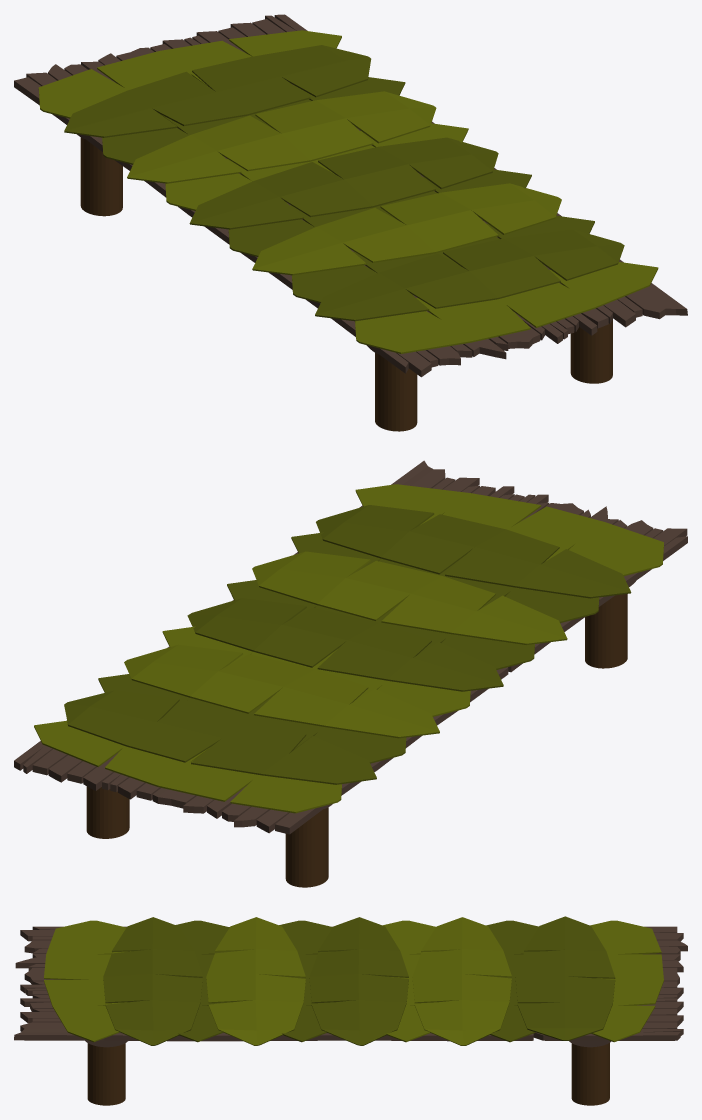
The model's file is Bed.fbx.
The picture shows the model from 3 angles, top to bottom: view 1: azimuth 30°, elevation 25°; view 2: azimuth 150°, elevation 25°; view 3: azimuth 270°, elevation 25°; orthographic projection. The views are drawn at different scales.
Visible parts, largest first — view 1: Bed; view 2: Bed; view 3: Bed.
Boxes of the visible parts, box(x1,y1,x2,y2) form: Bed: box(14, 14, 687, 431); Bed: box(14, 460, 687, 887); Bed: box(14, 916, 687, 1105).
Size of the model in its own units: 335 by 109 by 770.
